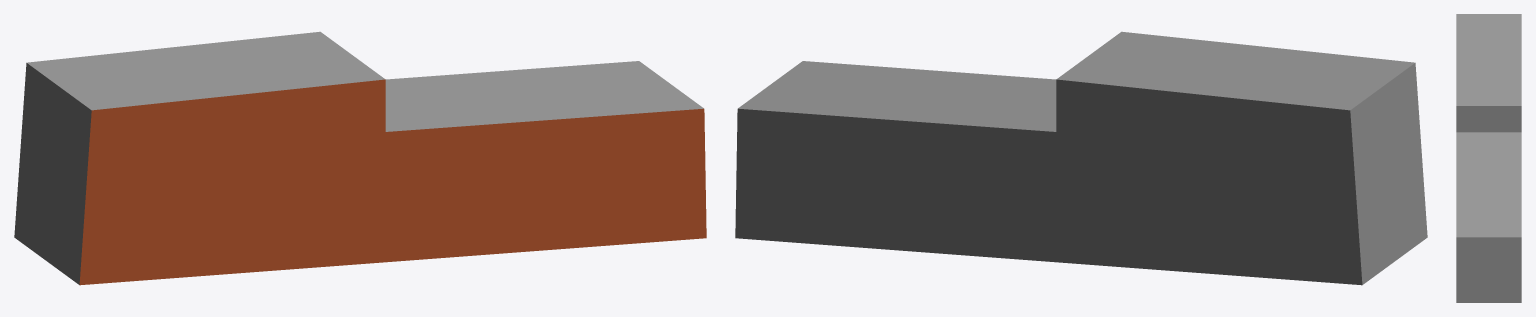
Rendered from construction_5469_assumed_A_Casa_h6m.obj.
The picture shows the model from 3 angles, left to right: view 1: azimuth 30°, elevation 25°; view 2: azimuth 150°, elevation 25°; view 3: azimuth 270°, elevation 25°; orthographic projection. The views are drawn at different scales.
Visible parts, largest first — view 1: construction_5469_assumed_A_Casa; view 2: construction_5469_assumed_A_Casa; view 3: construction_5469_assumed_A_Casa.
Part boxes in pixels (x1,y1,x2,y2): construction_5469_assumed_A_Casa: [14, 31, 706, 285]; construction_5469_assumed_A_Casa: [735, 31, 1427, 285]; construction_5469_assumed_A_Casa: [1456, 14, 1521, 302].
Size of the model in its own units: 33.3 by 14.1 by 6.
